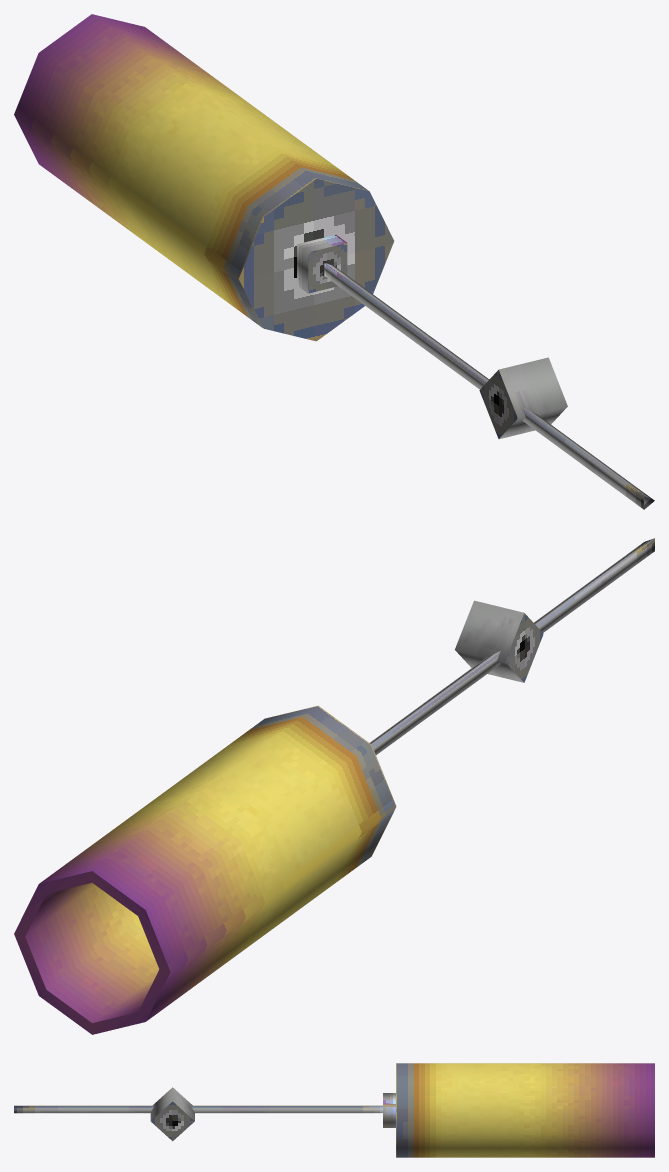
File: nt_2020_light_modern_LOD1.obj
3 renders of one model, top to bottom at view 1: azimuth 30°, elevation 25°; view 2: azimuth 150°, elevation 25°; view 3: azimuth 270°, elevation 25°, orthographic. The views are drawn at different scales.
Parts seen in each view (by area): view 1: mtl_nt_2020_light_modern_unlit, mtl_nt_2020_light_modern; view 2: mtl_nt_2020_light_modern_unlit, mtl_nt_2020_light_modern; view 3: mtl_nt_2020_light_modern_unlit, mtl_nt_2020_light_modern.
Part boxes in pixels (x1,y1,x2,y2): mtl_nt_2020_light_modern_unlit: (14,14,394,341); mtl_nt_2020_light_modern: (297,235,654,509); mtl_nt_2020_light_modern_unlit: (14,705,396,1034); mtl_nt_2020_light_modern: (370,538,654,754); mtl_nt_2020_light_modern_unlit: (396,1063,654,1157); mtl_nt_2020_light_modern: (14,1087,395,1141).
Size of the model in its own units: 7.11 by 7.11 by 43.99.
